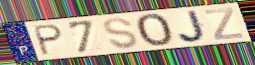7: (66, 18, 96, 55)
J: (176, 9, 209, 44)
O: (134, 12, 176, 48)
P: (32, 23, 65, 57)
S: (102, 17, 140, 50)
Z: (202, 6, 245, 41)
